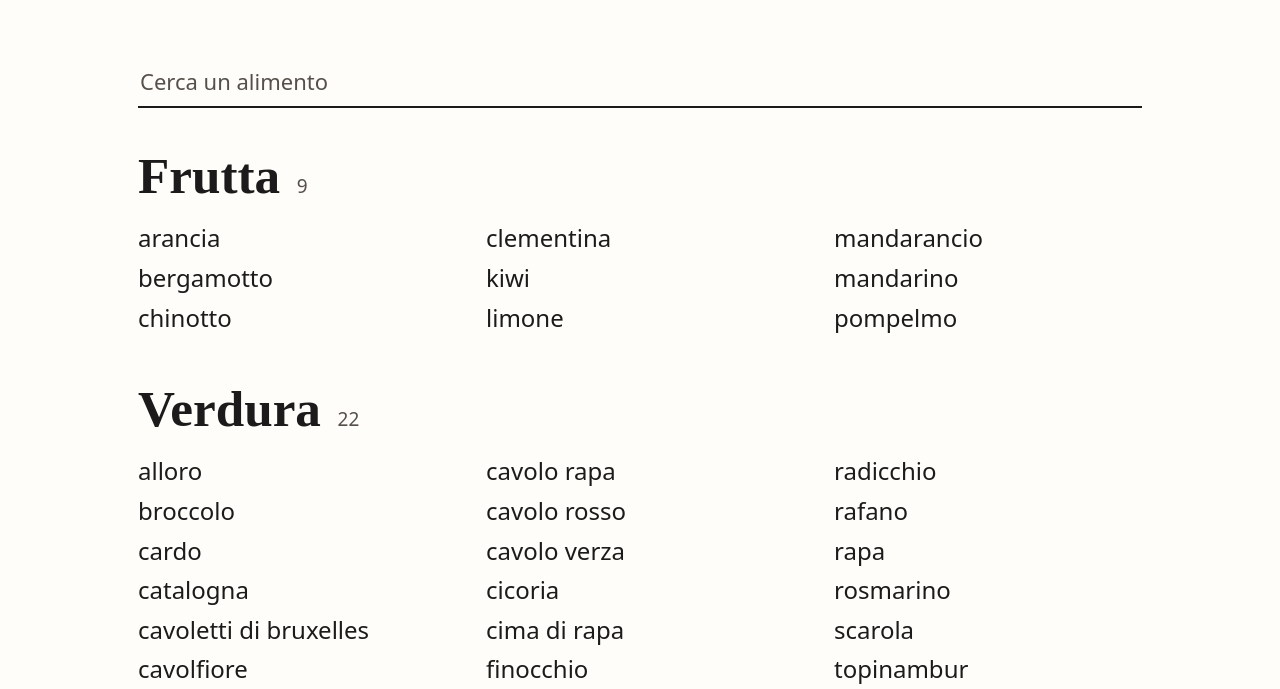
Test: MonthIssue › opens the sheet of an entry from a list and from a search, and drops it on close
Click the button "alloro" at x=170, y=471, box [138,451,202,491]
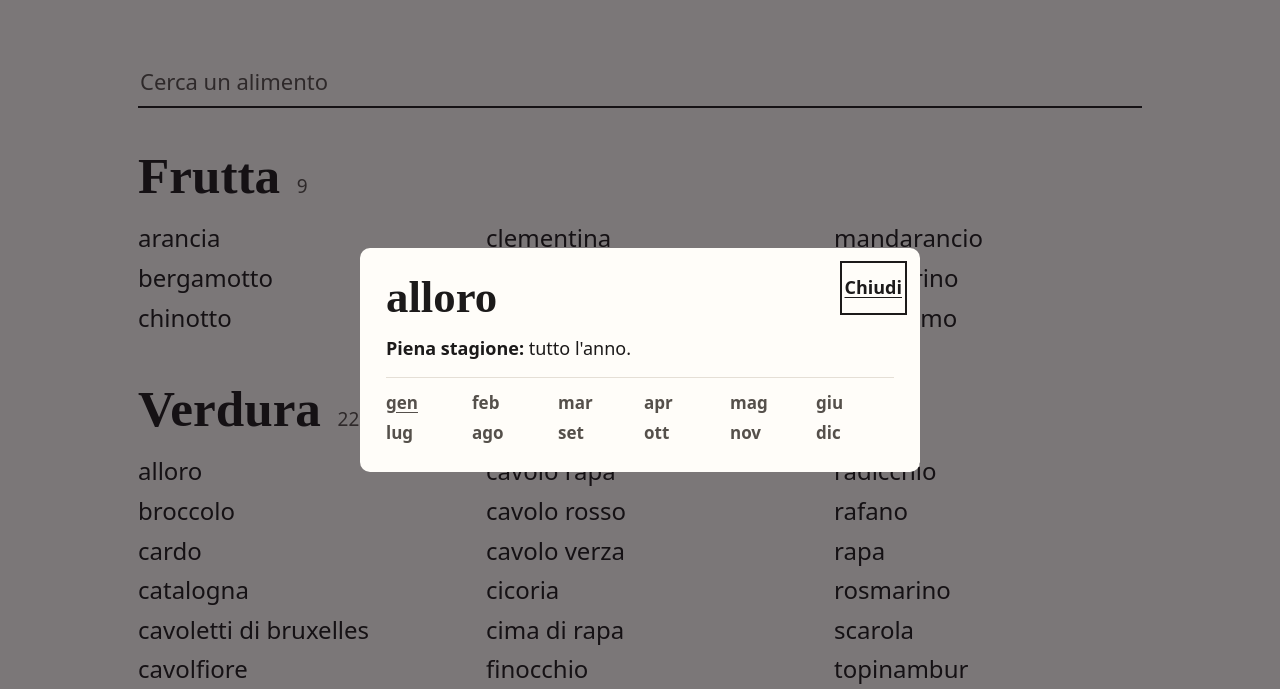
Now the heading "alloro" is shown, box [386,272,497,322]
Click the button "Chiudi" at x=873, y=288, box [844,266,902,310]
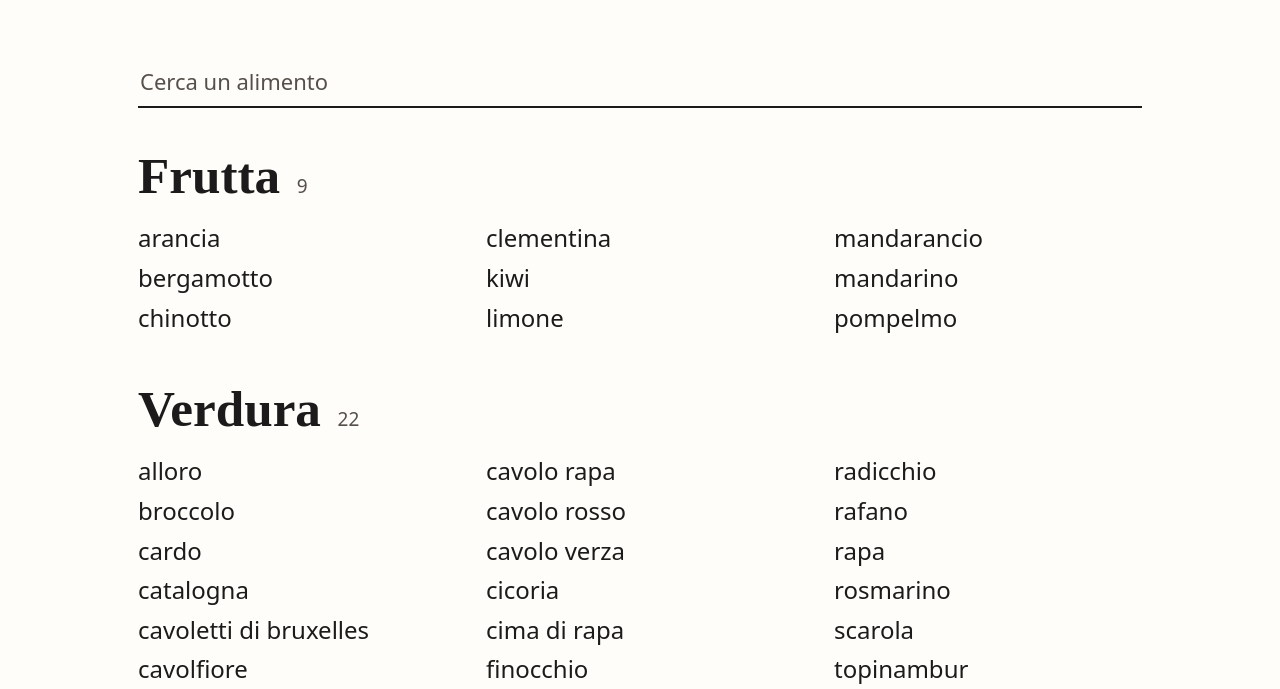
Now the dialog is gone
Type "anguria" into the search field labelled "Cerca un alimento" at x=640, y=82, box [138,56,1142,108]
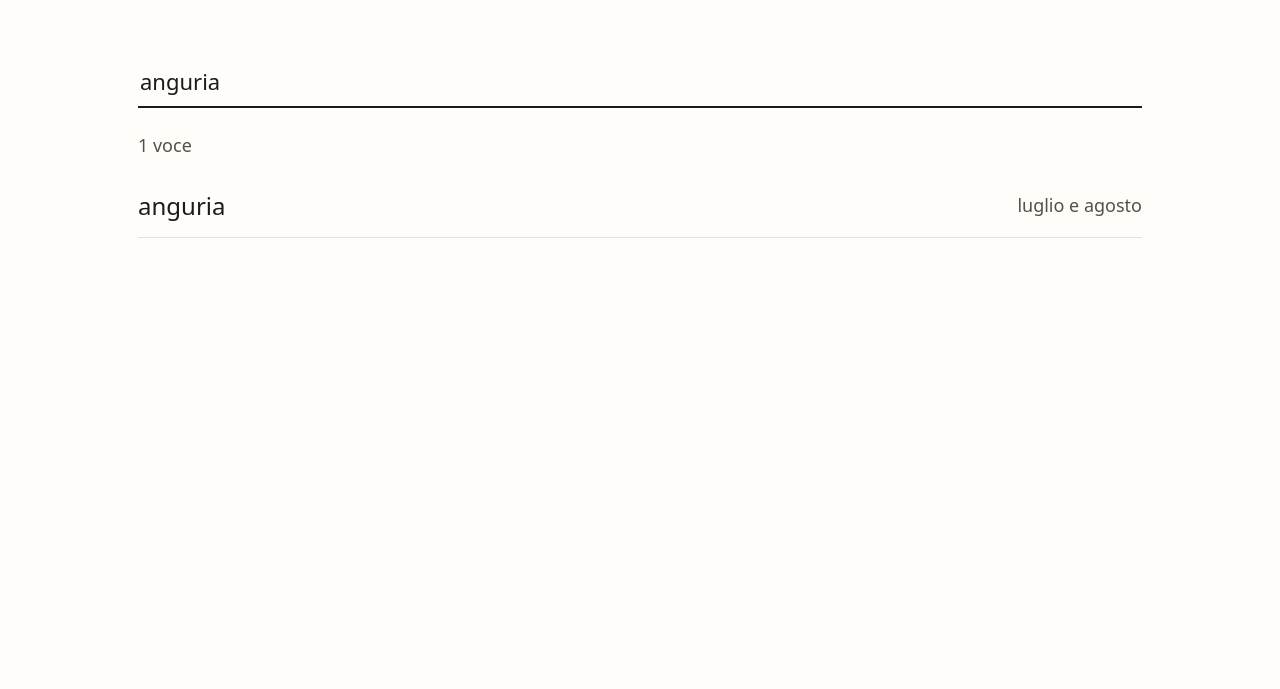
Click the button with class "name" at x=182, y=206, box [138,184,226,227]
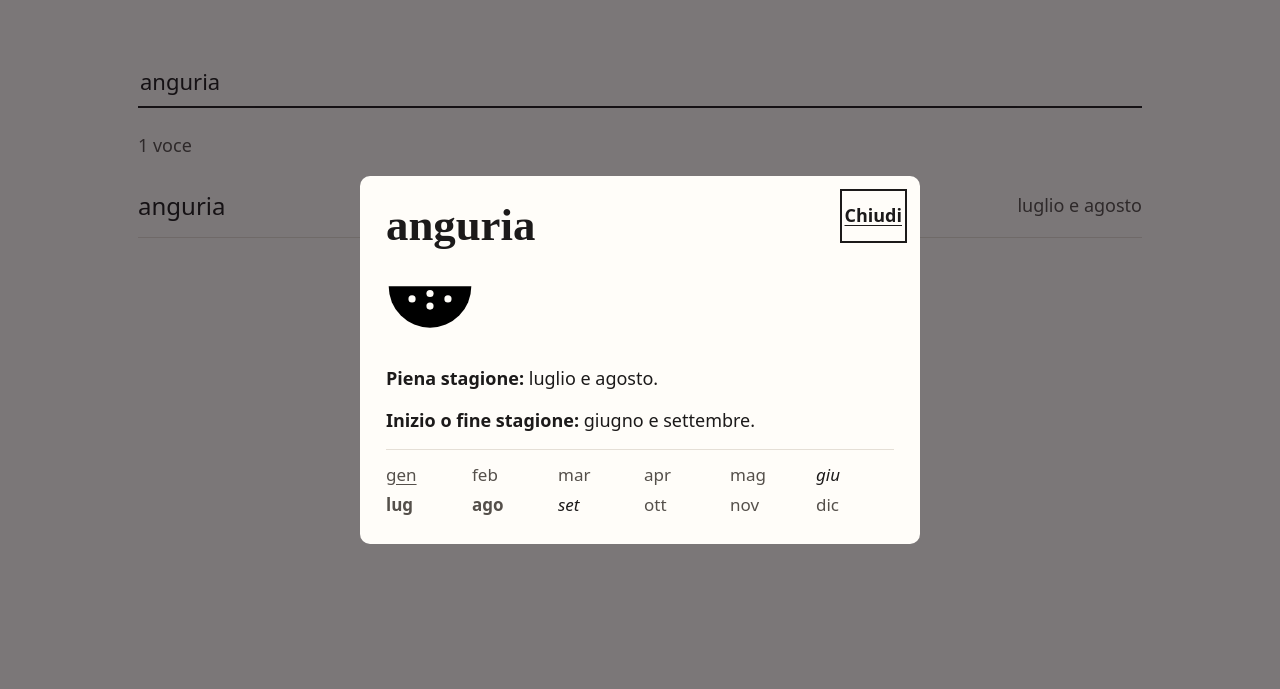
Now the heading "anguria" is shown, box [386,200,535,250]
